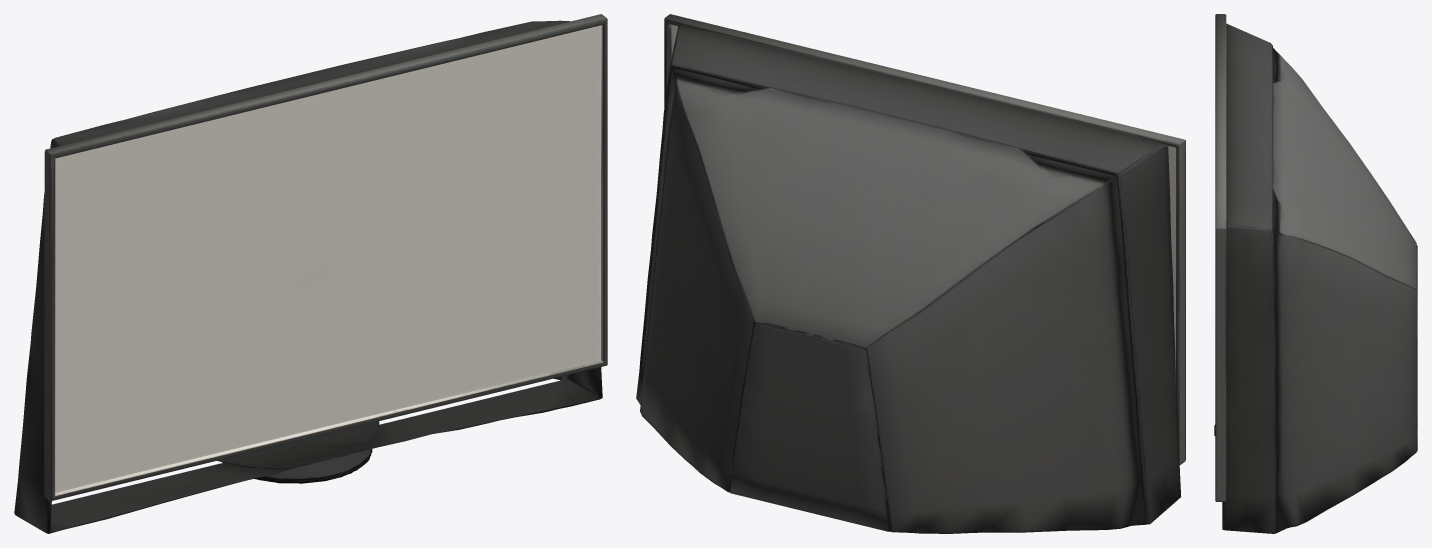
Rendered from imax-screen.glb.
3 views of the same model, side by side, from view 1: azimuth 30°, elevation 25°; view 2: azimuth 150°, elevation 25°; view 3: azimuth 270°, elevation 25° (orthographic). The views are drawn at different scales.
Parts seen in each view (by area): view 1: IMAX Screen; view 2: IMAX Screen; view 3: IMAX Screen.
Part boxes in pixels (x1,y1,x2,y2): IMAX Screen: (14, 14, 607, 533); IMAX Screen: (636, 14, 1185, 533); IMAX Screen: (1214, 14, 1417, 533).
Bounding box in the file's own units: 0.998 × 0.6738 × 0.4004.
Materials: 1 (1 with a texture image).
